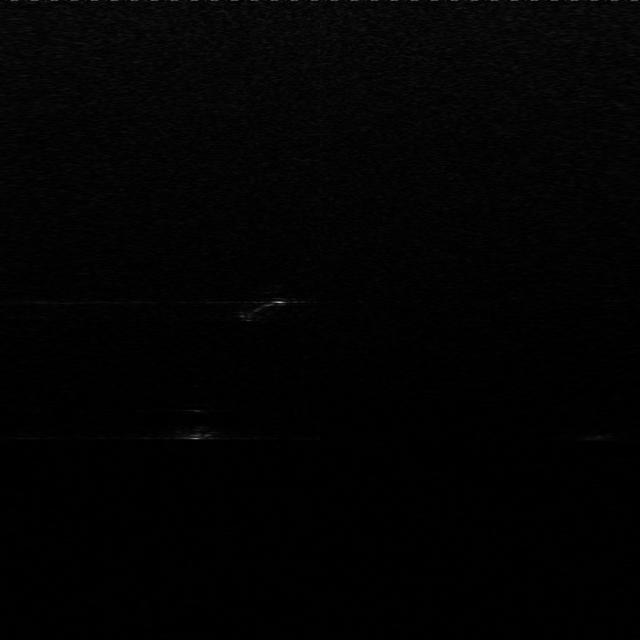ball: (166, 403, 226, 444)
tyre: (234, 284, 300, 325)
